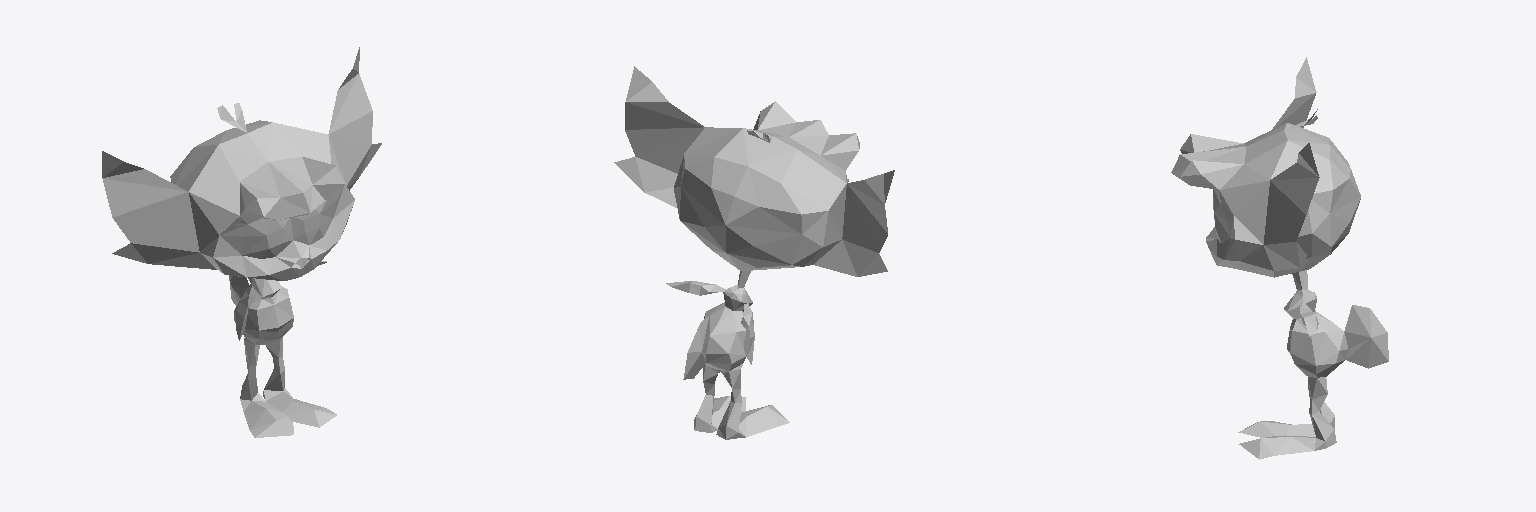
The model's file is PikeWave_000005.obj.
3 renders of one model, left to right at view 1: azimuth 30°, elevation 25°; view 2: azimuth 150°, elevation 25°; view 3: azimuth 270°, elevation 25°, orthographic.
Visible parts, largest first — view 1: PikeBody_Plane; view 2: PikeBody_Plane, Pike_Arm_R.001_Plane.002; view 3: PikeBody_Plane.
Part boxes in pixels (x1,y1,x2,y2): PikeBody_Plane: (102, 47, 381, 437); PikeBody_Plane: (614, 66, 894, 439); Pike_Arm_R.001_Plane.002: (666, 281, 725, 295); PikeBody_Plane: (1171, 57, 1388, 459).
Size of the model in its own units: 12.38 by 14.43 by 8.31.